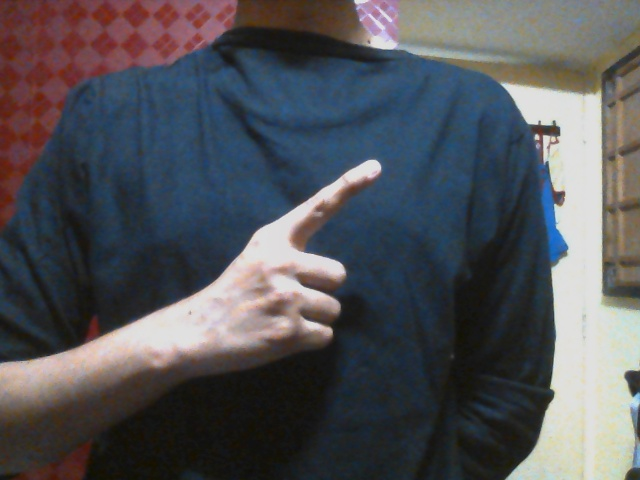I: (207, 159, 381, 370)
